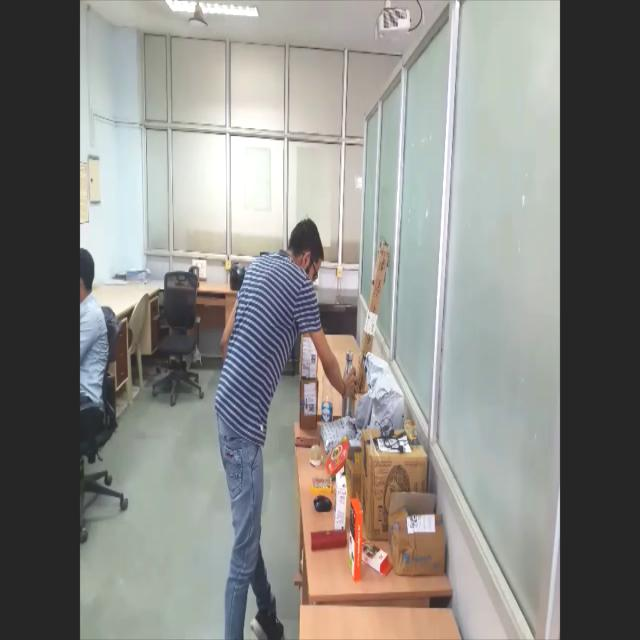normal: (216, 202, 356, 640)
